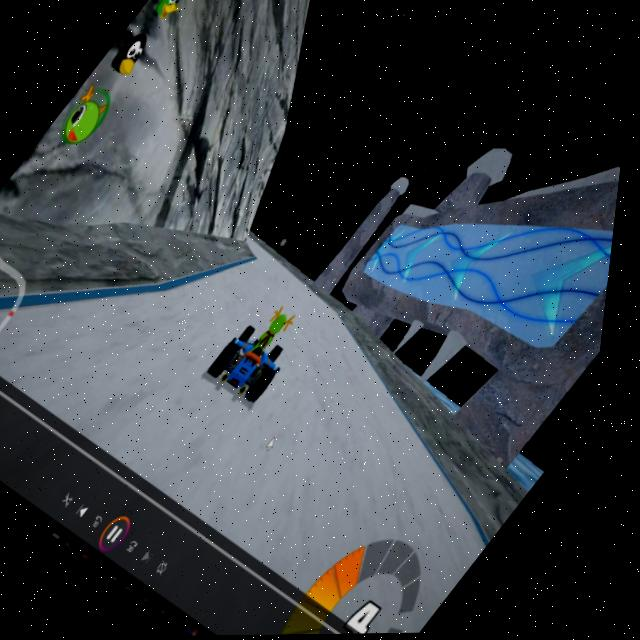player_kart: (197, 291, 328, 418)
track: (242, 246, 343, 323)
